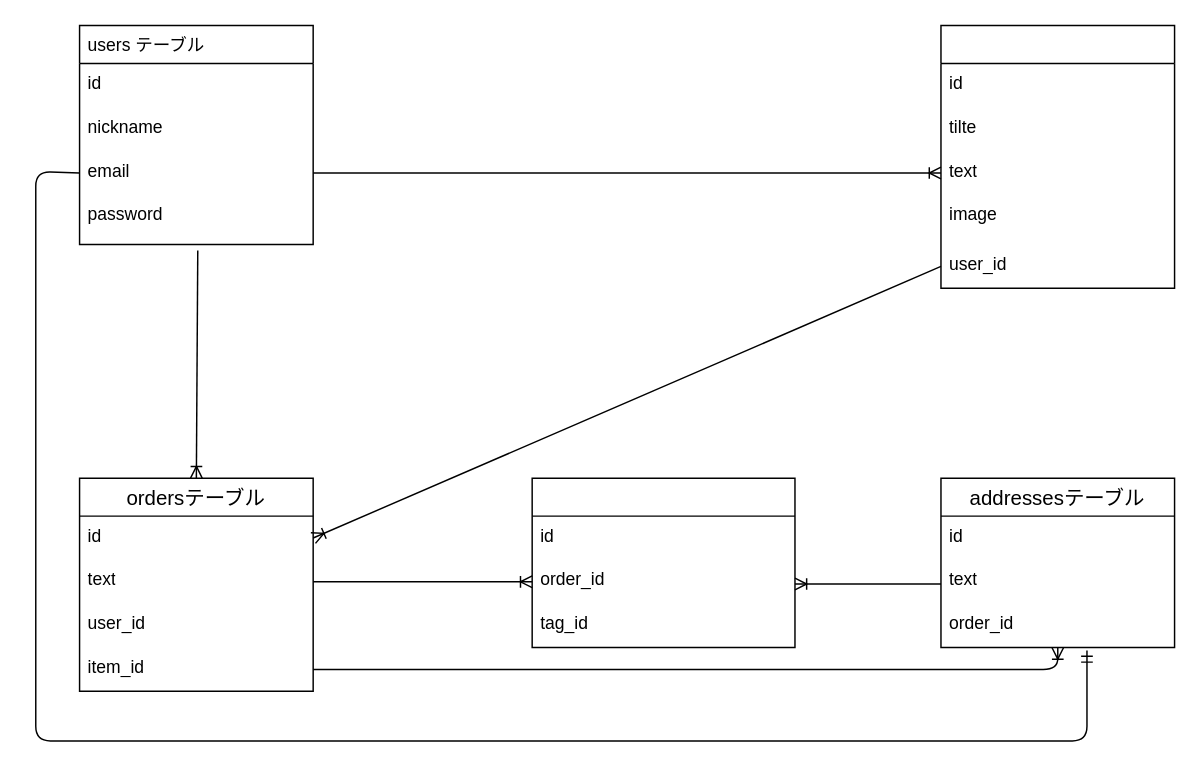
Image size: 1200x778. Some labels were removed from this diagram. The box of each missing label's shape, as (x1, y1, x2, y2) in pixels:
itemsテーブル: (940, 24, 1175, 288)
orders_addressesテーブル: (531, 477, 795, 648)
